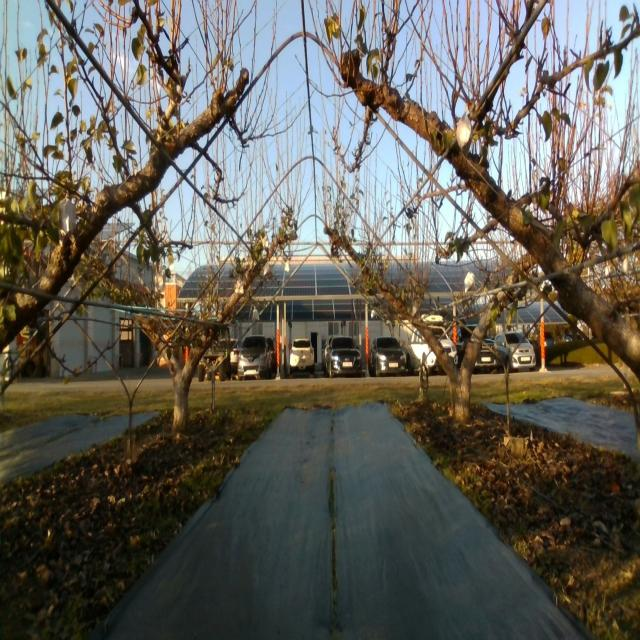pearbags: (457, 115, 471, 154), (60, 198, 76, 232), (464, 270, 476, 294), (154, 269, 165, 294)
